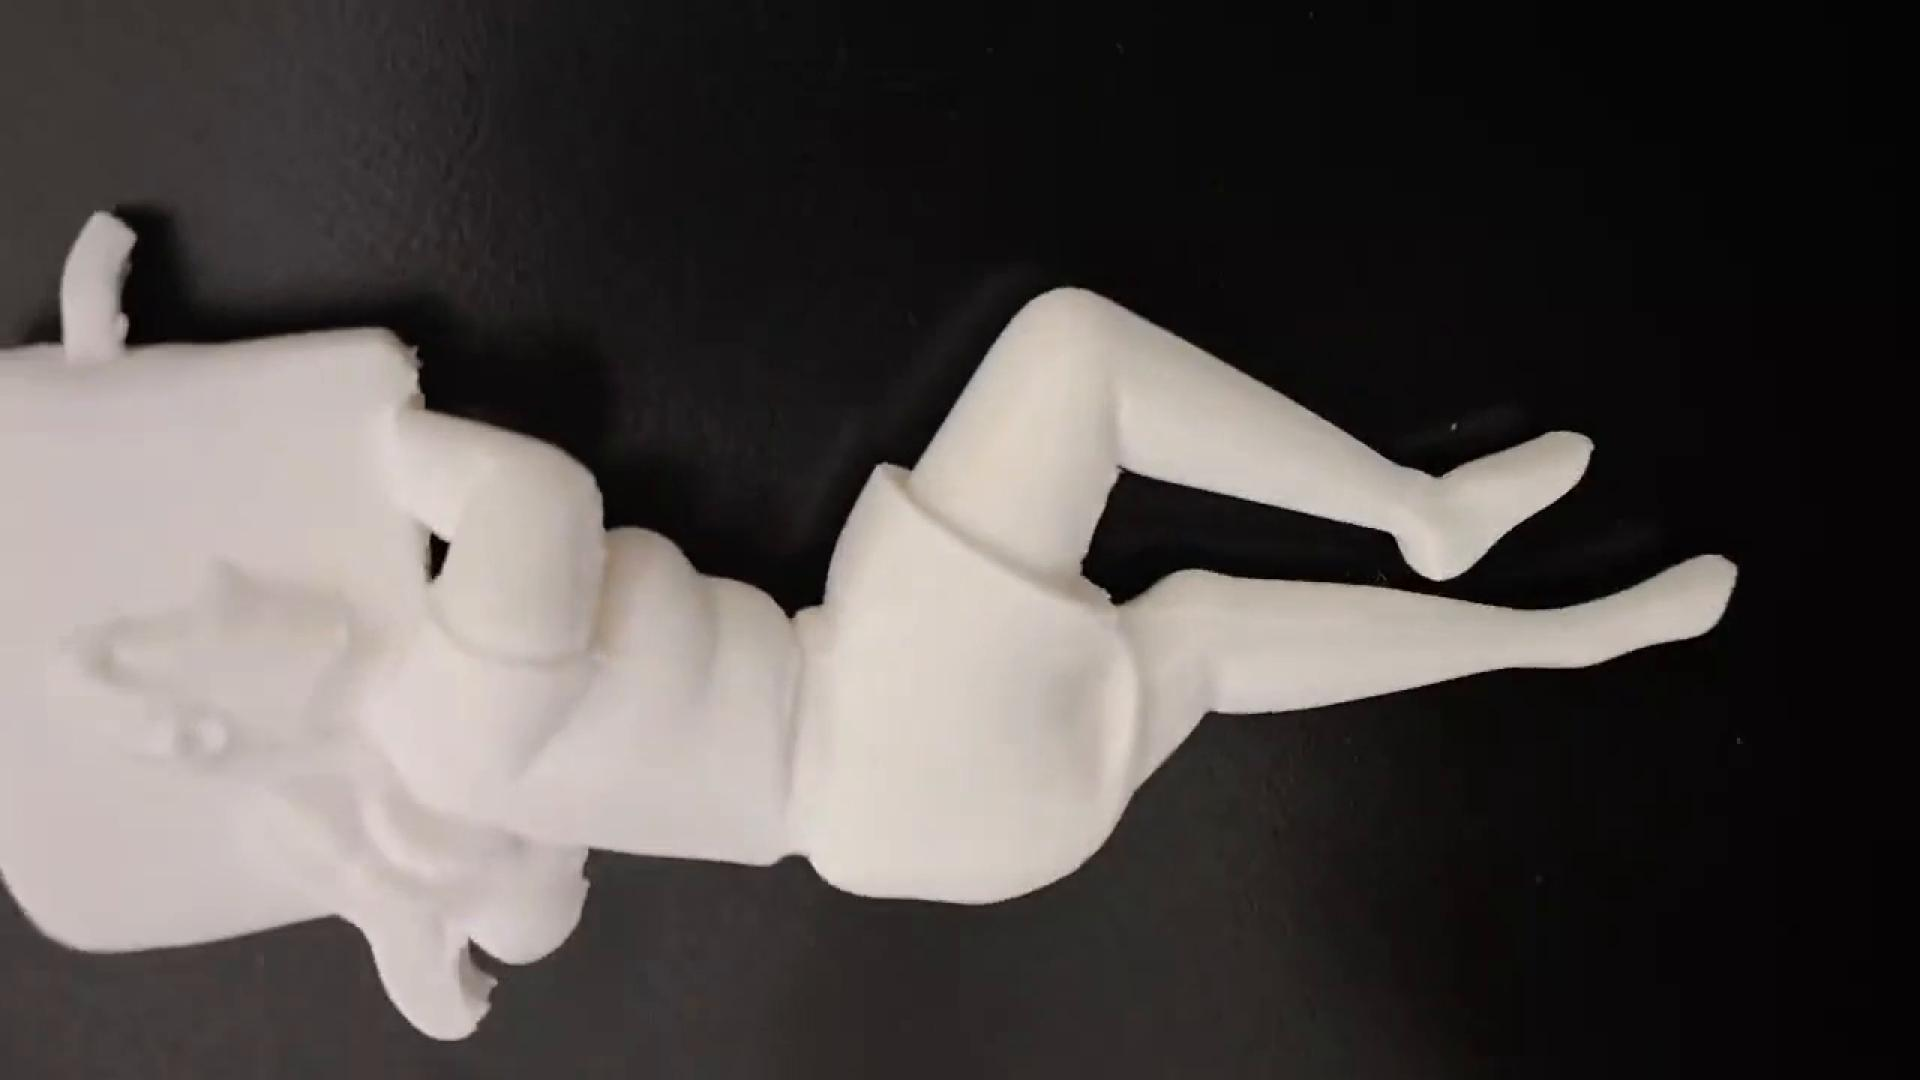Good-style: (0, 211, 1738, 1050)
